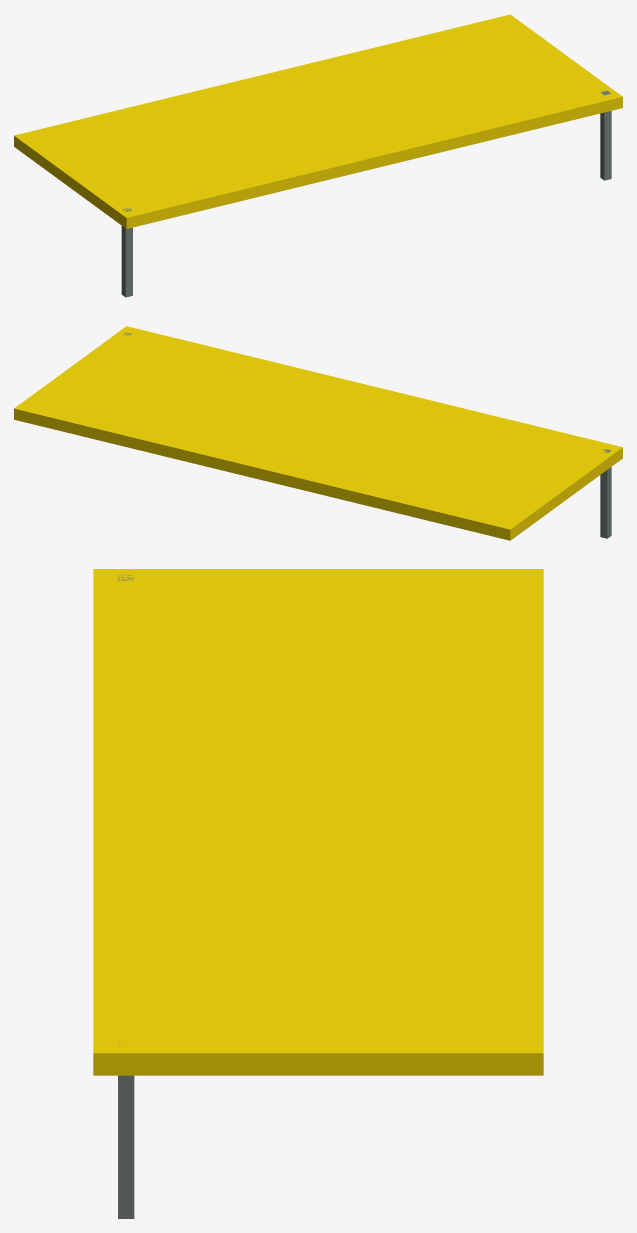
The model's file is b-awning.glb.
3 views of the same model, one above another, from view 1: azimuth 30°, elevation 25°; view 2: azimuth 150°, elevation 25°; view 3: azimuth 270°, elevation 25° (orthographic). The views are drawn at different scales.
Parts seen in each view (by area): view 1: b-awning; view 2: b-awning; view 3: b-awning.
Part boxes in pixels (bbox=[...]): b-awning: bbox=[14, 14, 622, 297]; b-awning: bbox=[14, 326, 622, 540]; b-awning: bbox=[93, 569, 543, 1218].
Size of the model in its own units: 2.8 by 0.46 by 1.1.
